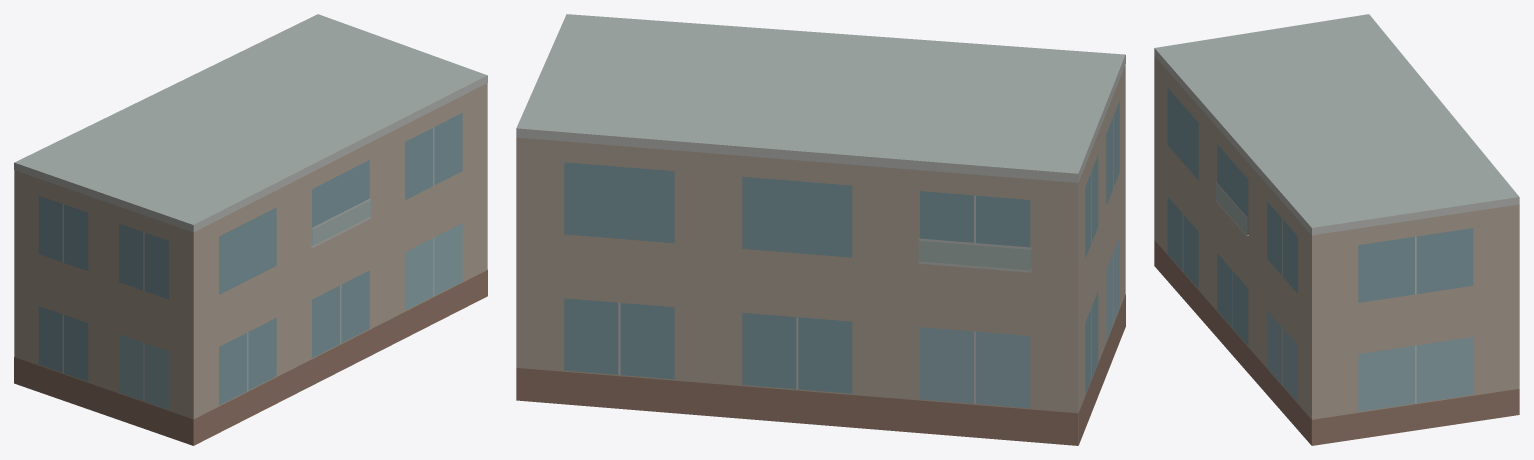
Rendered from survey-upis-32592591.glb.
3 views of the same model, side by side, from view 1: azimuth 30°, elevation 25°; view 2: azimuth 150°, elevation 25°; view 3: azimuth 270°, elevation 25° (orthographic). The views are drawn at different scales.
Visible parts, largest first — view 1: survey-upis-32592591.tmp; view 2: survey-upis-32592591.tmp; view 3: survey-upis-32592591.tmp.
Part boxes in pixels (x1,y1,x2,y2): survey-upis-32592591.tmp: (14,14,487,445); survey-upis-32592591.tmp: (516,14,1125,445); survey-upis-32592591.tmp: (1154,14,1519,445).
Size of the model in its own units: 15.18 by 7.2 by 10.95.
